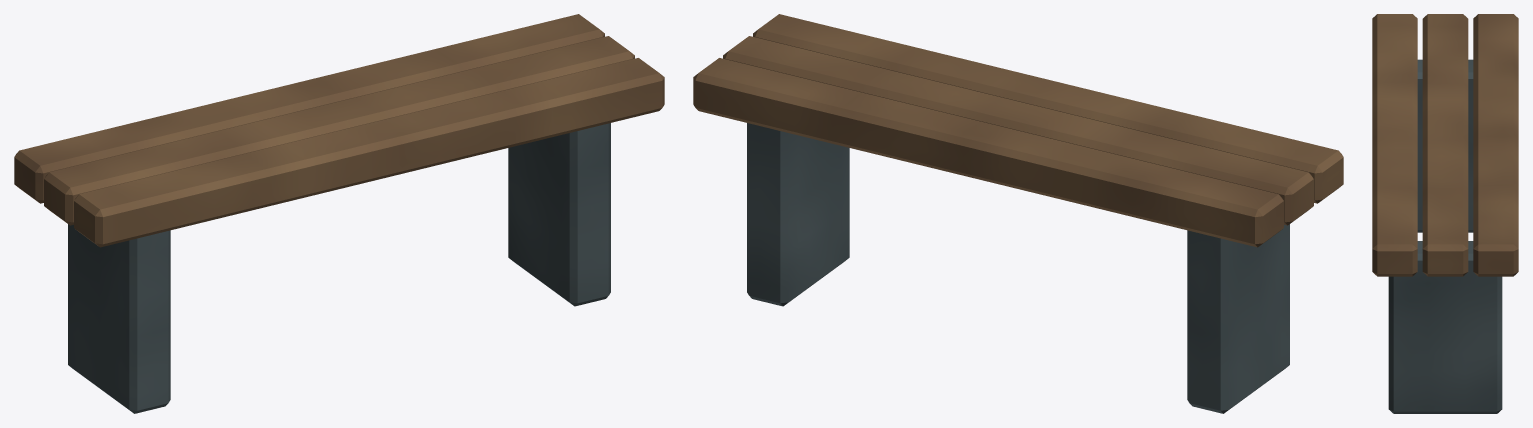
File: bench.glb
3 renders of one model, left to right at view 1: azimuth 30°, elevation 25°; view 2: azimuth 150°, elevation 25°; view 3: azimuth 270°, elevation 25°, orthographic. The views are drawn at different scales.
Parts seen in each view (by area): view 1: bench; view 2: bench; view 3: bench.
Boxes of the visible parts, x1,y1,x2,y2 form: bench: (14, 14, 664, 413); bench: (693, 14, 1343, 413); bench: (1372, 14, 1518, 413).
Size of the model in its own units: 2.2 by 0.82 by 0.58.
Materials: 2 (2 with a texture image).
